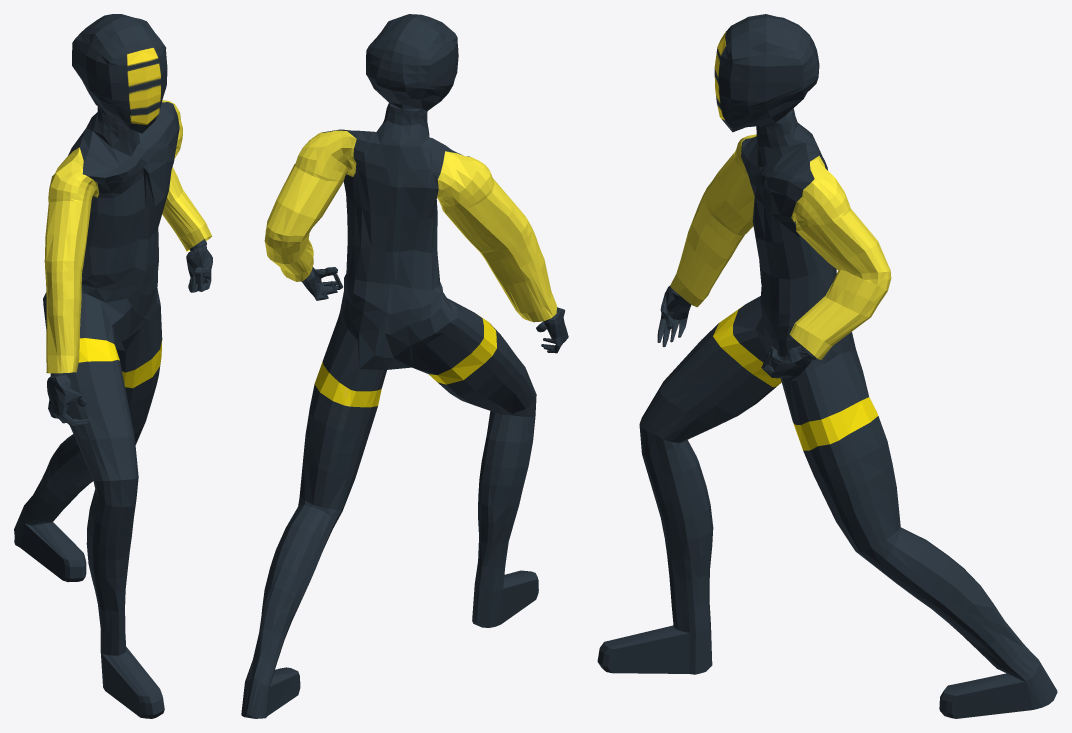
Rendered from Sentry_Stun_Recover_000012.obj.
3 views of the same model, side by side, from view 1: azimuth 30°, elevation 25°; view 2: azimuth 150°, elevation 25°; view 3: azimuth 270°, elevation 25° (orthographic). The views are drawn at different scales.
Parts seen in each view (by area): view 1: Cube; view 2: Cube; view 3: Cube.
Part boxes in pixels (bbox=[...]): Cube: bbox=[14, 14, 212, 718]; Cube: bbox=[241, 14, 568, 718]; Cube: bbox=[597, 14, 1057, 718].
Size of the model in its own units: 1.33 by 3.6 by 2.22.
